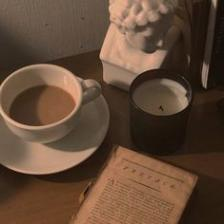brown: (1, 51, 138, 224), (1, 137, 112, 224), (156, 104, 224, 224), (1, 167, 92, 224), (153, 152, 224, 224), (10, 85, 75, 126)
